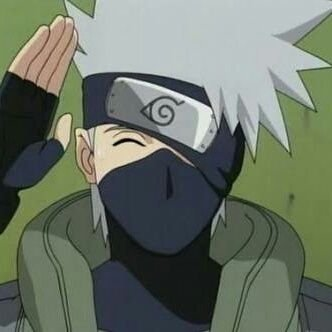kakashi: (76, 70, 248, 258)
